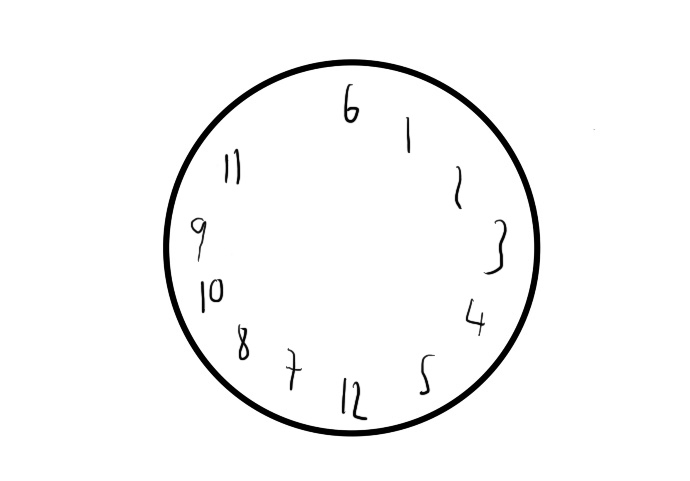eight: (233, 319, 252, 364)
eleven: (219, 147, 244, 186)
five: (418, 351, 434, 396)
four: (463, 292, 487, 339)
nine: (188, 217, 208, 263)
one: (401, 114, 415, 156)
seven: (280, 340, 303, 395)
six: (341, 82, 359, 128)
ten: (196, 277, 225, 317)
three: (485, 217, 508, 277)
twelve: (340, 373, 369, 423)
two: (452, 162, 466, 213)
